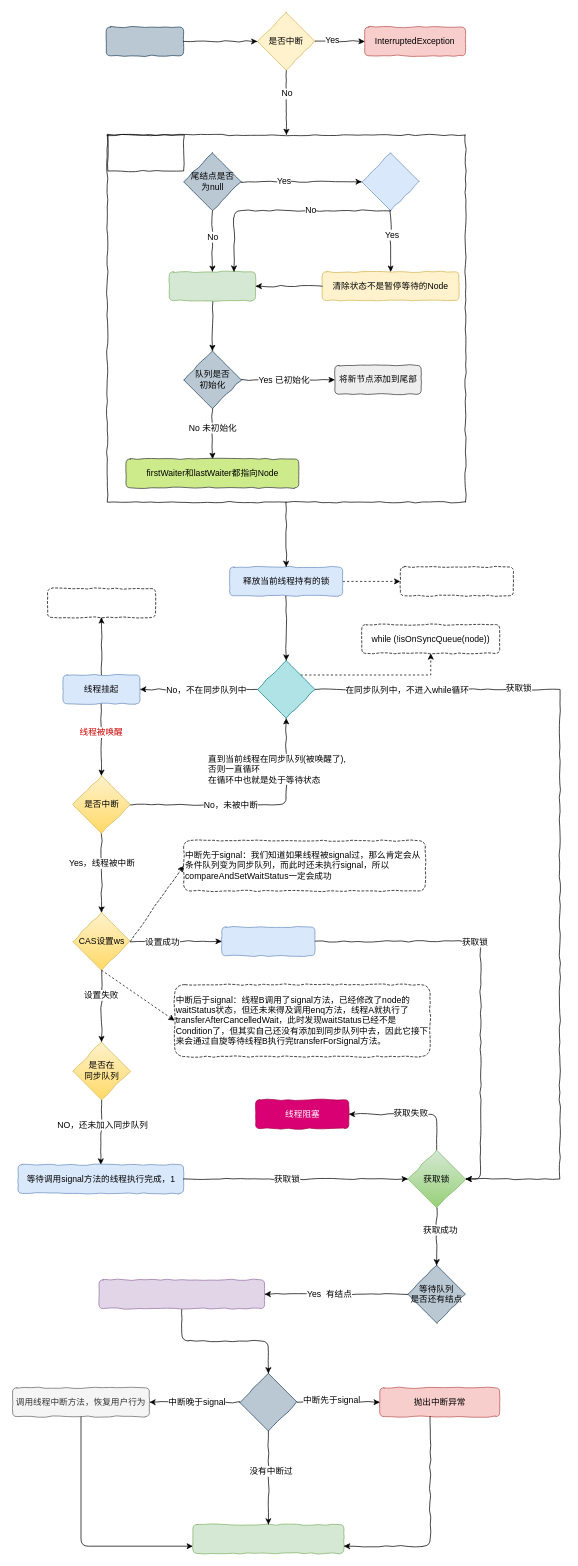
The diagram is 578 pixels wide and 1566 high, and some of its shapes have lost their labels. The centre of each missing label's shape, as x and y in pixels:
"await" belongs at point (144, 41).
"await()方法结束" belongs at point (268, 1538).
"fullyRelease(node)" belongs at point (456, 581).
"LockSupport . park ( this );" belongs at point (101, 602).
"ws!=-2" belongs at point (390, 181).
"当前线程 是否在 同步队列" belongs at point (286, 689).
"新建结点Node" belongs at point (212, 286).
"添加到同步队列，-1" belongs at point (268, 941).
"添加结点" belongs at point (145, 152).
"清空队列中ws不是CONDITION的结点" belongs at point (181, 1294).
"线程是 否中断" belongs at point (268, 1402).
